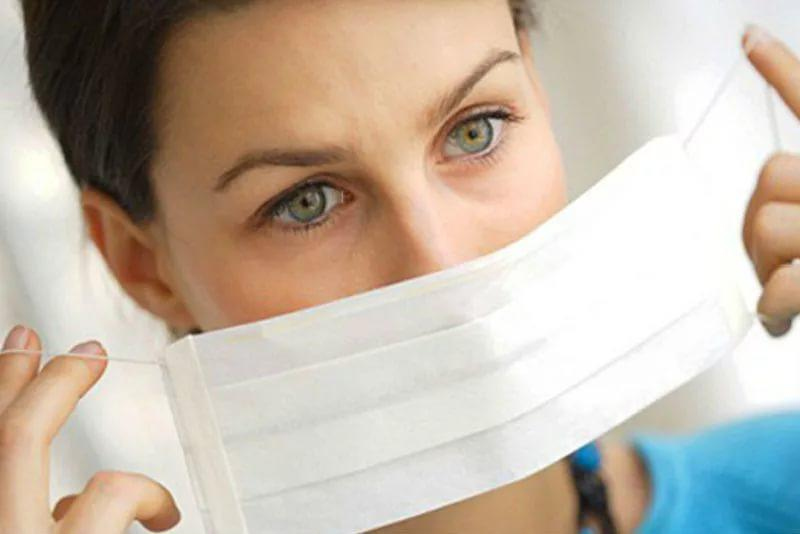mask: (146, 13, 644, 507)
